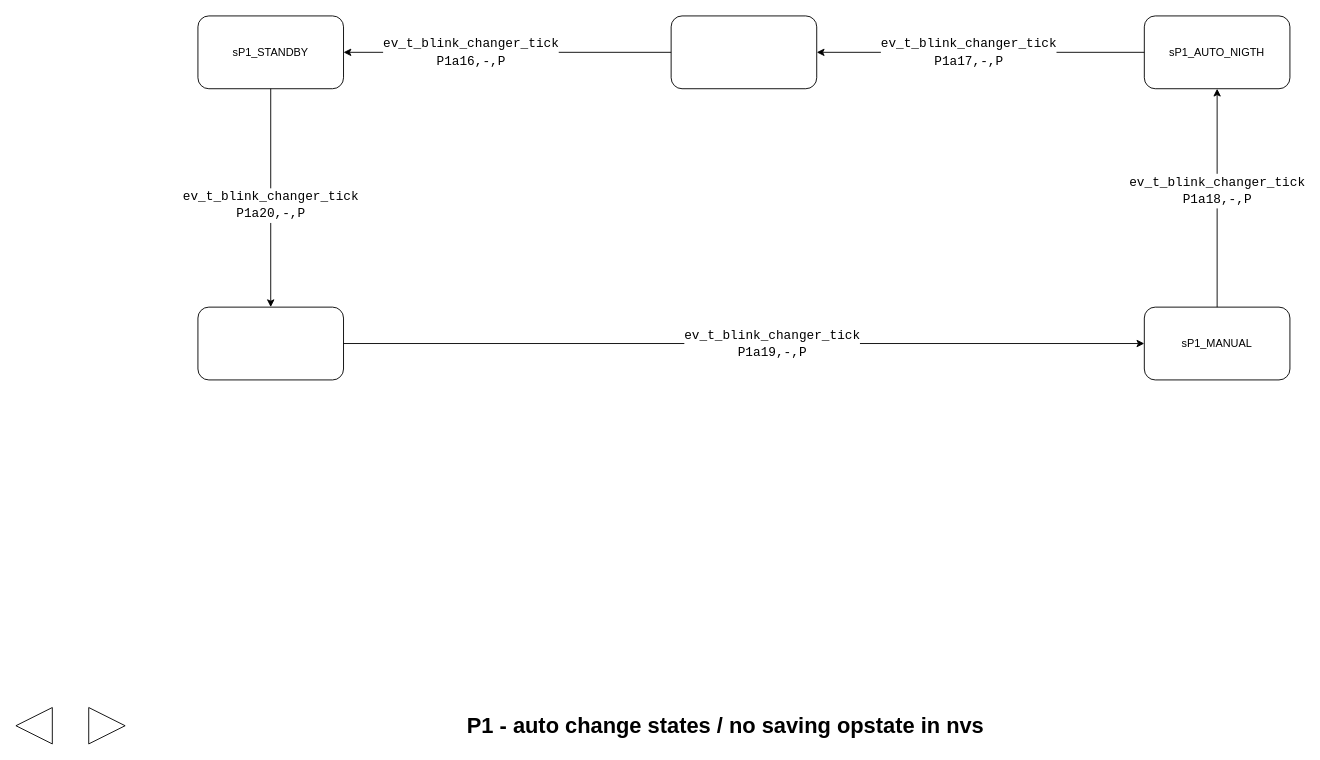
Image size: 1320x760. Some labels were removed from this diagram. The centre of each missing label's shape, as x and y in pixels:
"sP1_AUTO" goes at pixel 743 52.
"sP1_TEST" goes at pixel 270 343.
